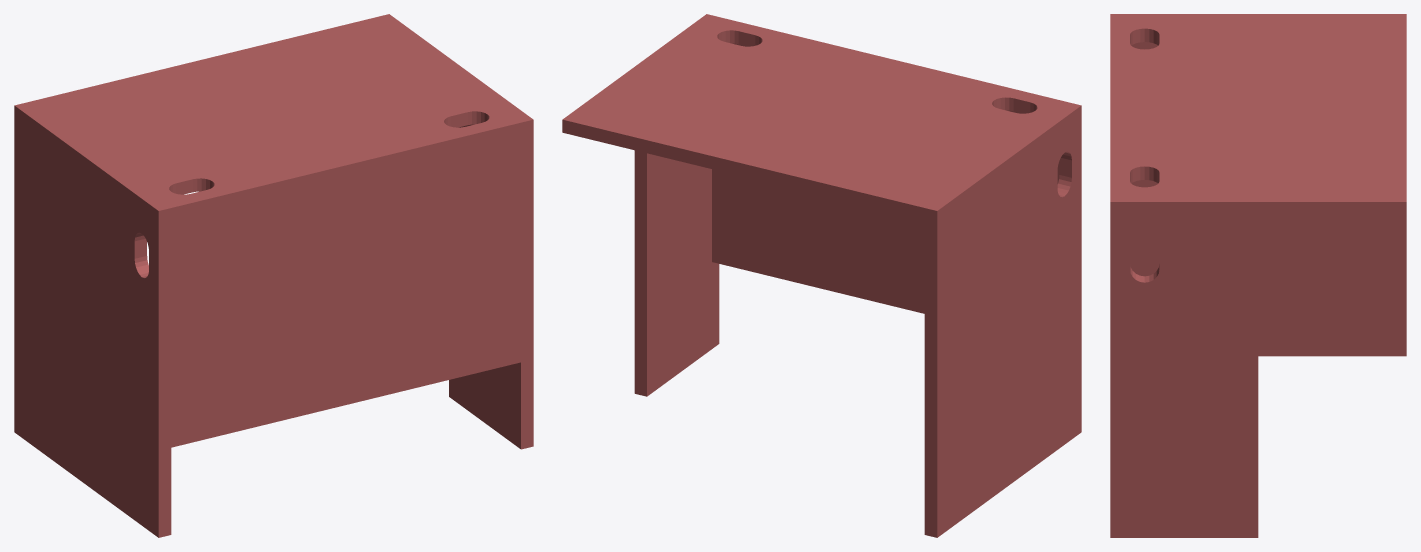
File: desk.glb
3 renders of one model, left to right at view 1: azimuth 30°, elevation 25°; view 2: azimuth 150°, elevation 25°; view 3: azimuth 270°, elevation 25°, orthographic. The views are drawn at different scales.
Visible parts, largest first — view 1: Mesh_Mesh_head_geo.001_lambert2SG.001; view 2: Mesh_Mesh_head_geo.001_lambert2SG.001; view 3: Mesh_Mesh_head_geo.001_lambert2SG.001.
Part boxes in pixels (x1,y1,x2,y2): Mesh_Mesh_head_geo.001_lambert2SG.001: (14,14,533,537); Mesh_Mesh_head_geo.001_lambert2SG.001: (562,14,1081,537); Mesh_Mesh_head_geo.001_lambert2SG.001: (1110,14,1406,537).
Bounding box in the file's own units: 90 × 75 × 60.
